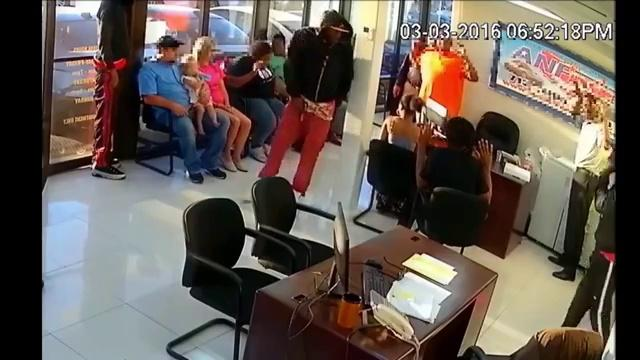weapon: (294, 95, 308, 130)
